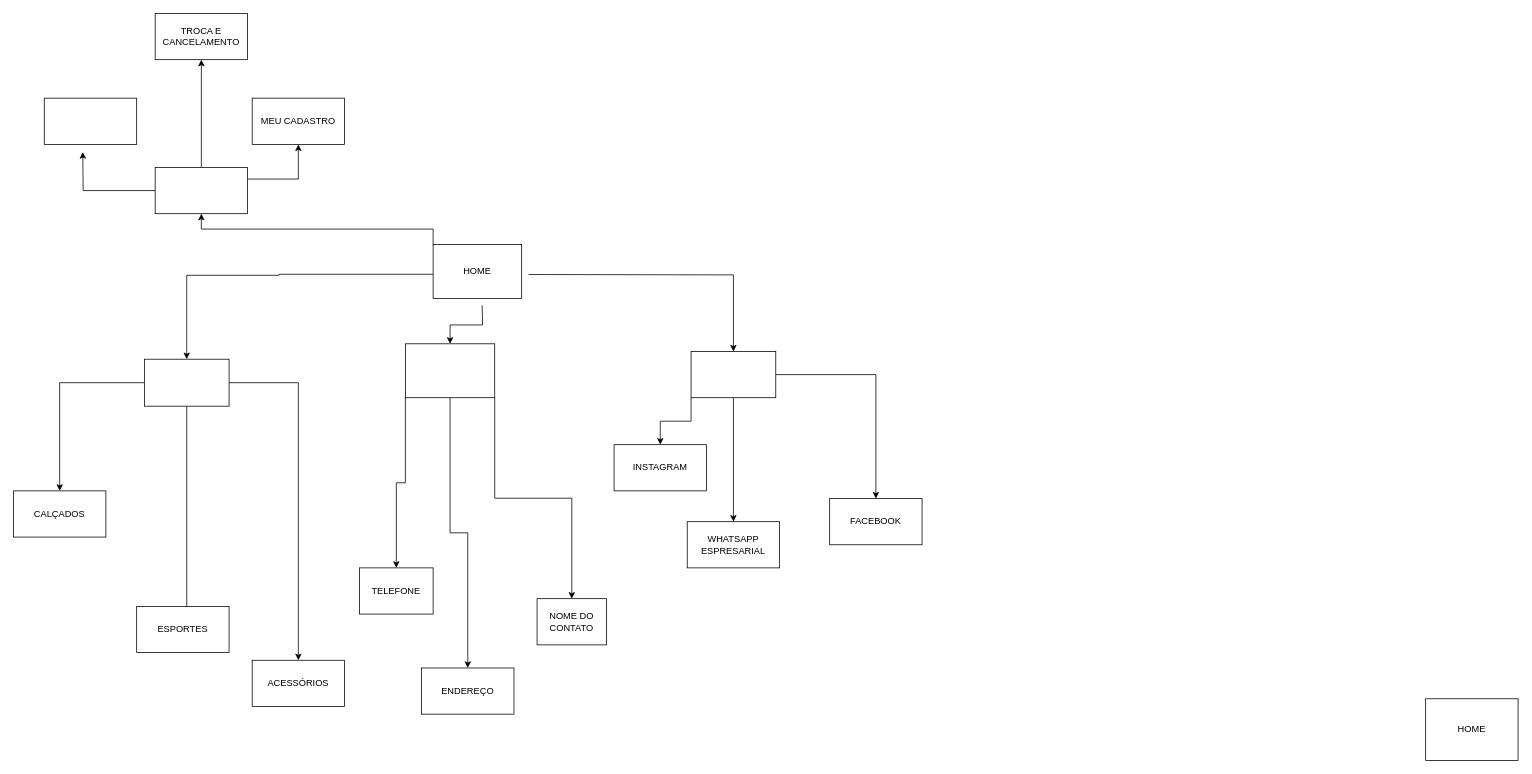
Image size: 1532x774. Some labels were removed from this diagram. Here are the shapes that lost their labels. From the top down, the centre of each, then its label:
At point 90,120: "MEUS PEDIDOS".
At point 201,190: "ATENDIOMENTO".
At point 186,382: "PRODUTOS DA EMPRESA".
At point 450,370: "INFORMAÇÕES PARA CLIENTES".
At point 733,374: "REDES SOCIAS".
